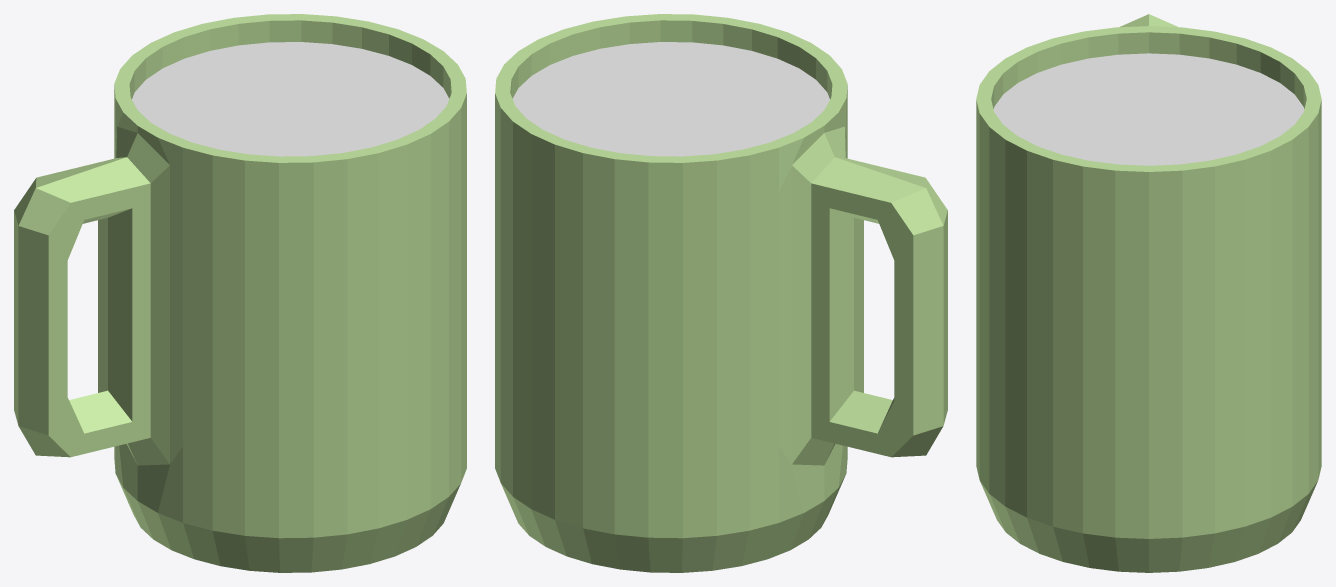
The model's file is cup.fbx.
3 renders of one model, left to right at view 1: azimuth 30°, elevation 25°; view 2: azimuth 150°, elevation 25°; view 3: azimuth 270°, elevation 25°, orthographic. The views are drawn at different scales.
Visible parts, largest first — view 1: Cylinder, Cylinder.001; view 2: Cylinder, Cylinder.001; view 3: Cylinder, Cylinder.001.
Part boxes in pixels (<box>): Cylinder: <box>14,14,466,572</box>; Cylinder.001: <box>132,42,449,156</box>; Cylinder: <box>495,14,947,572</box>; Cylinder.001: <box>512,42,829,156</box>; Cylinder: <box>976,14,1321,572</box>; Cylinder.001: <box>993,53,1304,165</box>.
Size of the model in its own units: 1374 by 1290 by 989.
